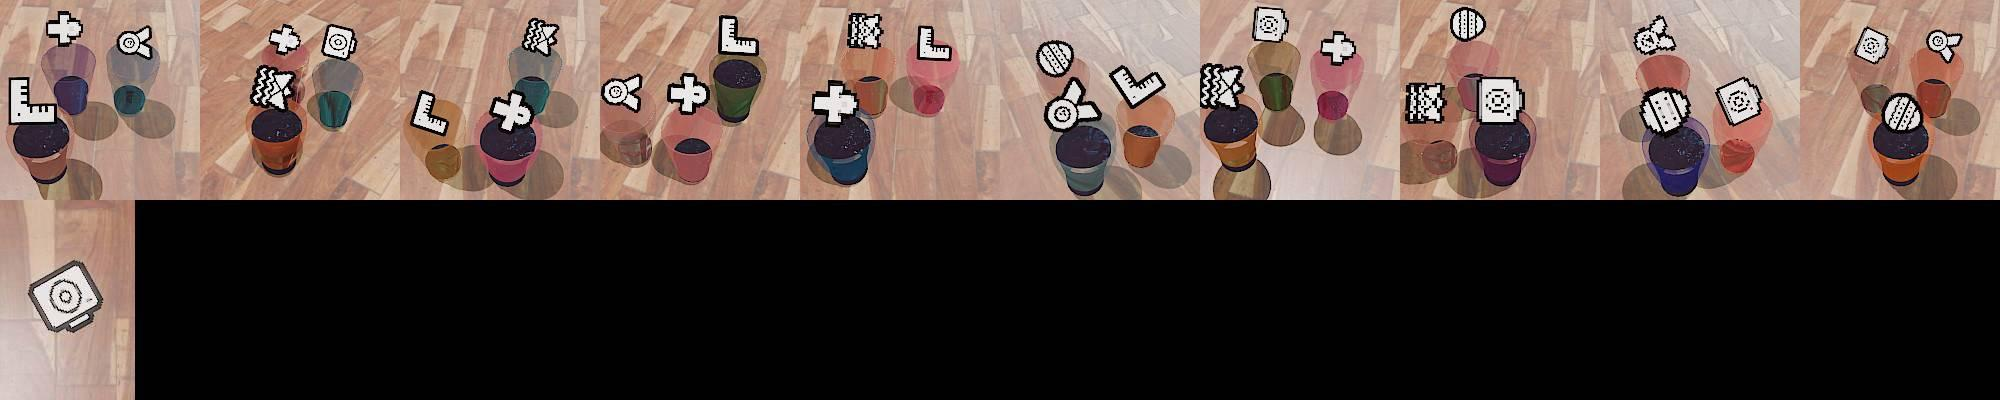icon: (26, 258, 107, 334), (1042, 76, 1101, 133), (6, 74, 58, 126), (1109, 63, 1166, 110), (1639, 86, 1691, 135), (1714, 76, 1764, 126), (249, 65, 297, 113), (1476, 76, 1524, 124), (811, 79, 858, 125), (1201, 62, 1245, 111), (488, 89, 535, 133), (409, 88, 451, 137), (1633, 13, 1678, 57), (666, 72, 712, 115), (716, 14, 760, 58), (1404, 81, 1447, 126), (601, 72, 644, 114), (521, 17, 563, 58), (1881, 92, 1923, 131), (44, 10, 85, 49), (1037, 40, 1076, 79), (1251, 5, 1290, 44), (1852, 26, 1890, 65), (321, 22, 358, 62), (846, 10, 883, 50), (915, 24, 953, 62), (116, 25, 155, 61), (1449, 6, 1486, 42), (1319, 31, 1357, 66), (1925, 29, 1962, 62), (267, 23, 302, 56)
